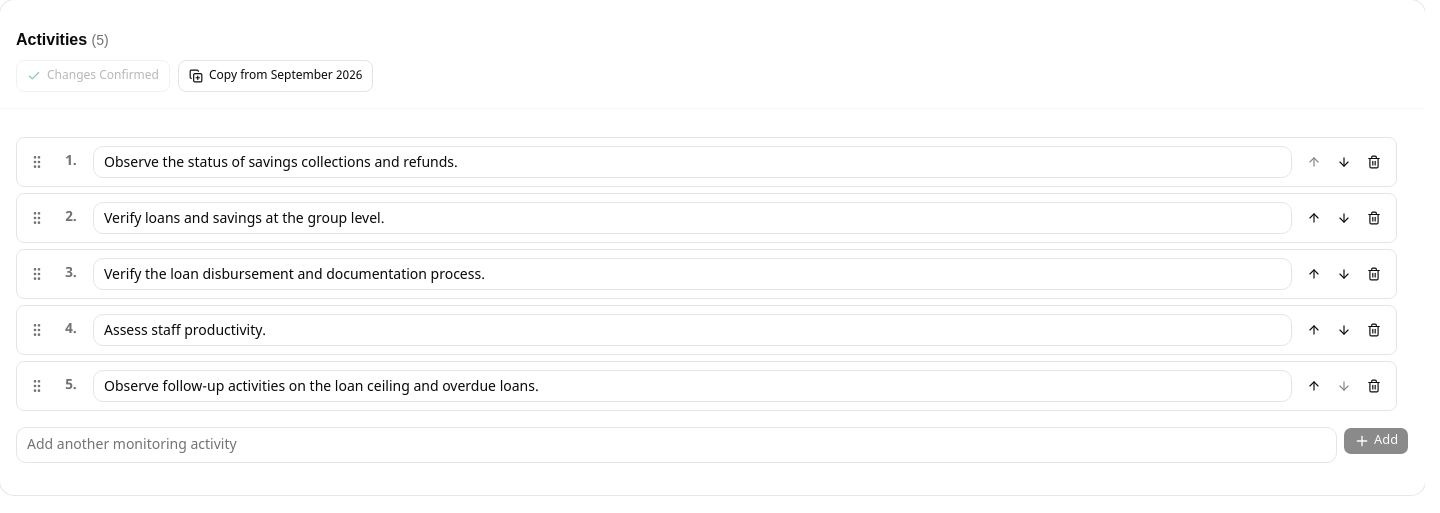
Scenario: ActivitiesTab swapping, replacing, and confirming changes › discard button resets changes back to initial state
The width and height of the screenshot is (1440, 513).
// Swap item 1 and item 2
Click the button named "Move activity 1 down" at (1344, 162), box [1330,148,1358,176]
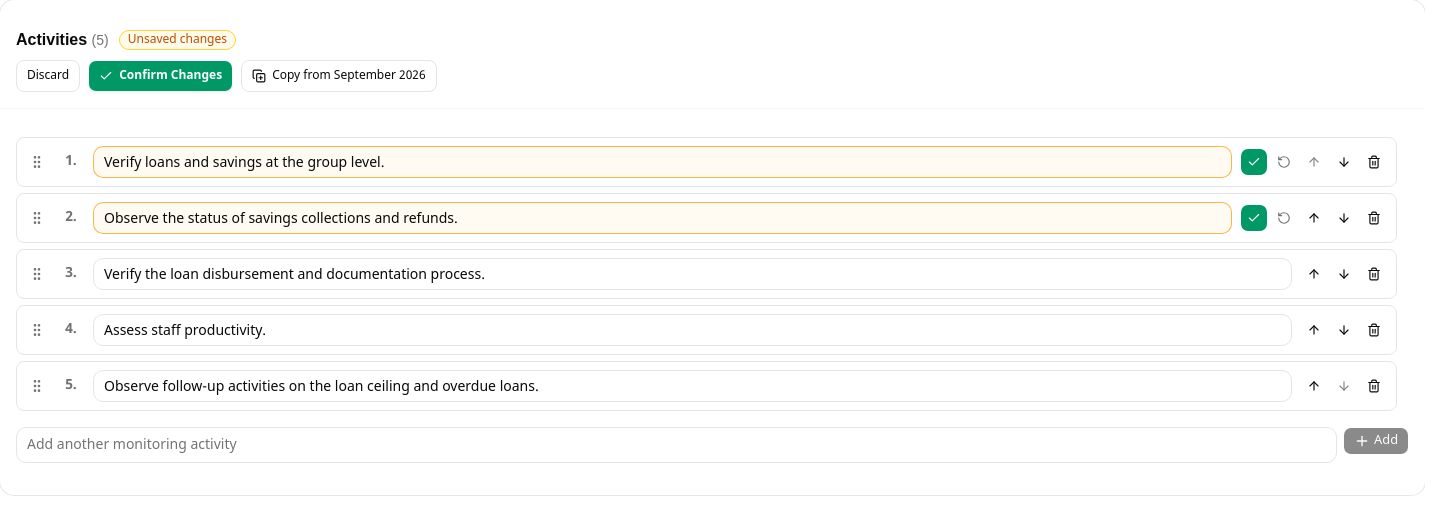
Expected: the field named "Activity 1" holds "Verify loans and savings at the group level.", [93,146,1232,178]
// Click Discard
Click the button "Discard" at (48, 76), box [16,60,80,92]
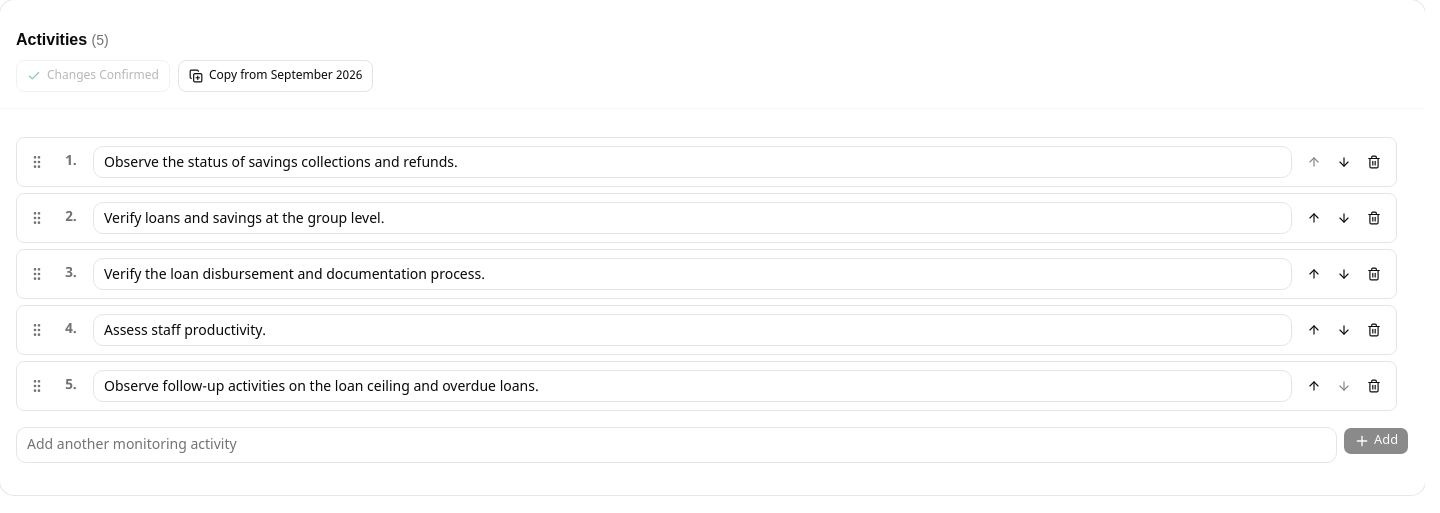
Expected: the field named "Activity 1" holds "Observe the status of savings collections and refunds.", [93,146,1292,178]
Expected: the button "Changes Confirmed" is shown, [16,60,170,92]
